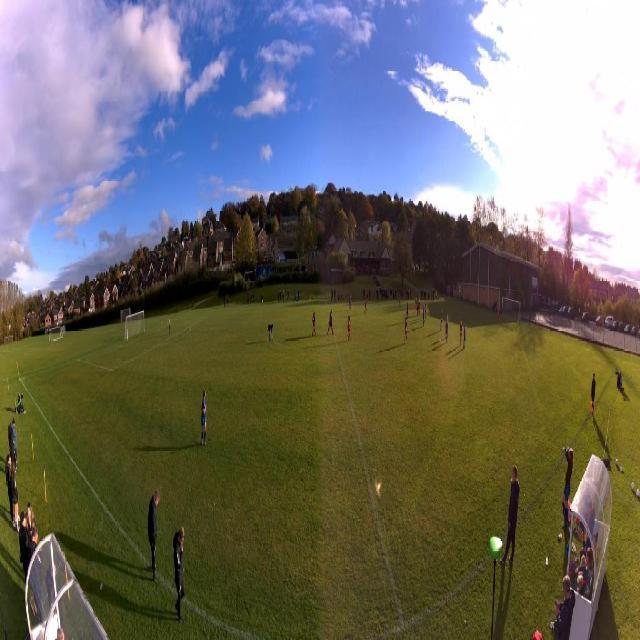ball: (272, 337, 274, 341)
player: (201, 389, 208, 446), (327, 310, 335, 337), (312, 312, 318, 336), (459, 320, 463, 347), (404, 317, 408, 344), (268, 323, 274, 341), (347, 315, 351, 341), (445, 314, 449, 338), (463, 322, 466, 349), (445, 319, 448, 343), (364, 297, 368, 314), (349, 295, 353, 312), (440, 309, 443, 330), (422, 305, 425, 326), (424, 301, 427, 321), (406, 302, 409, 319), (418, 300, 421, 317), (497, 306, 500, 321), (169, 316, 171, 335), (415, 297, 417, 315), (399, 293, 401, 310), (416, 300, 418, 317), (422, 299, 424, 313)
